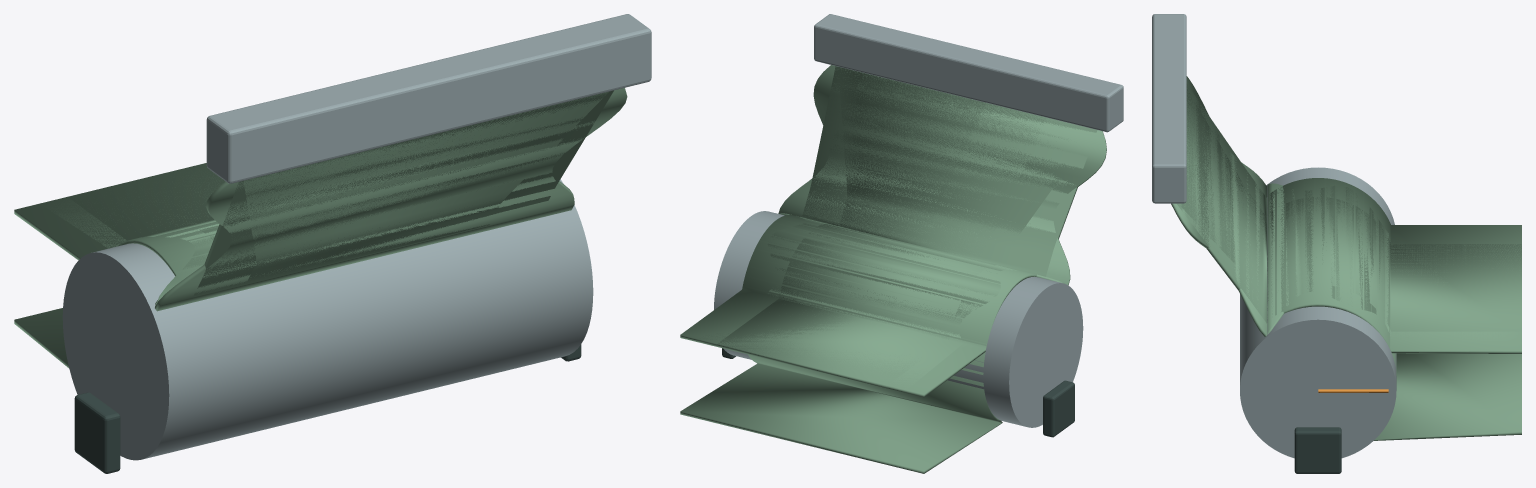
The model's file is castfilm.glb.
3 renders of one model, left to right at view 1: azimuth 30°, elevation 25°; view 2: azimuth 150°, elevation 25°; view 3: azimuth 270°, elevation 25°, orthographic. The views are drawn at different scales.
Parts seen in each view (by area): view 1: Roller.001, Flat die.001, Cast web.001, Cast web.002, Cast web, Roll support.002, Cast web.003; view 2: Cast web, Cast web.001, Cast web.002, Cast web.003, Flat die.001, Roller.001, Roll support.002; view 3: Cast web, Roller.001, Cast web.001, Cast web.003, Cast web.002, Flat die.001, Roll support.003.
Boxes of the visible parts, box(x1,y1,x2,y2) form: Roller.001: box(62, 179, 593, 460); Flat die.001: box(206, 14, 651, 183); Cast web.001: box(67, 92, 608, 283); Cast web.002: box(40, 88, 627, 311); Cast web: box(14, 90, 613, 297); Roll support.002: box(74, 392, 120, 473); Cast web.003: box(14, 220, 218, 368); Cast web: box(680, 66, 1097, 397); Cast web.001: box(717, 67, 1075, 388); Cast web.002: box(697, 65, 1106, 390); Cast web.003: box(680, 215, 1036, 473); Flat die.001: box(814, 14, 1123, 132); Roller.001: box(714, 211, 1083, 427); Roll support.002: box(1043, 380, 1074, 437); Cast web: box(1177, 84, 1521, 353); Roller.001: box(1240, 167, 1396, 458); Cast web.001: box(1180, 89, 1521, 331); Cast web.003: box(1275, 178, 1521, 440); Cast web.002: box(1171, 76, 1521, 341); Flat die.001: box(1152, 14, 1186, 203); Roll support.003: box(1294, 427, 1341, 473).
Size of the model in its own units: 5.18 by 4.22 by 4.72.
